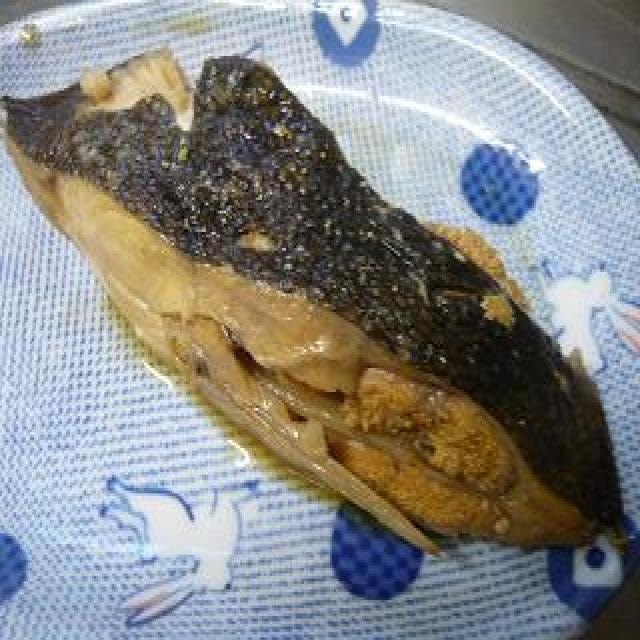熟制海鲜: (0, 0, 640, 608)
